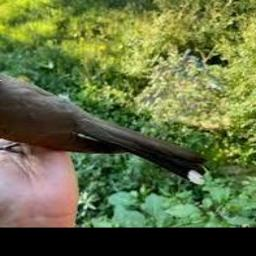Cuckoo: (0, 60, 207, 185)
